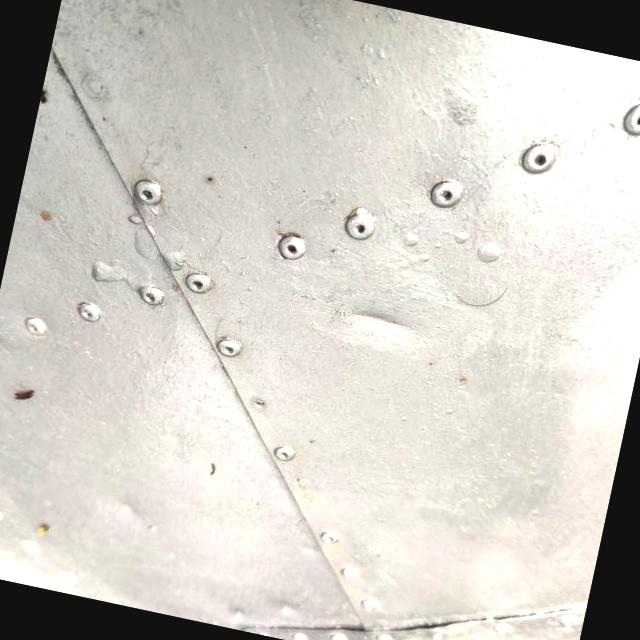dent: (302, 258, 432, 382)
